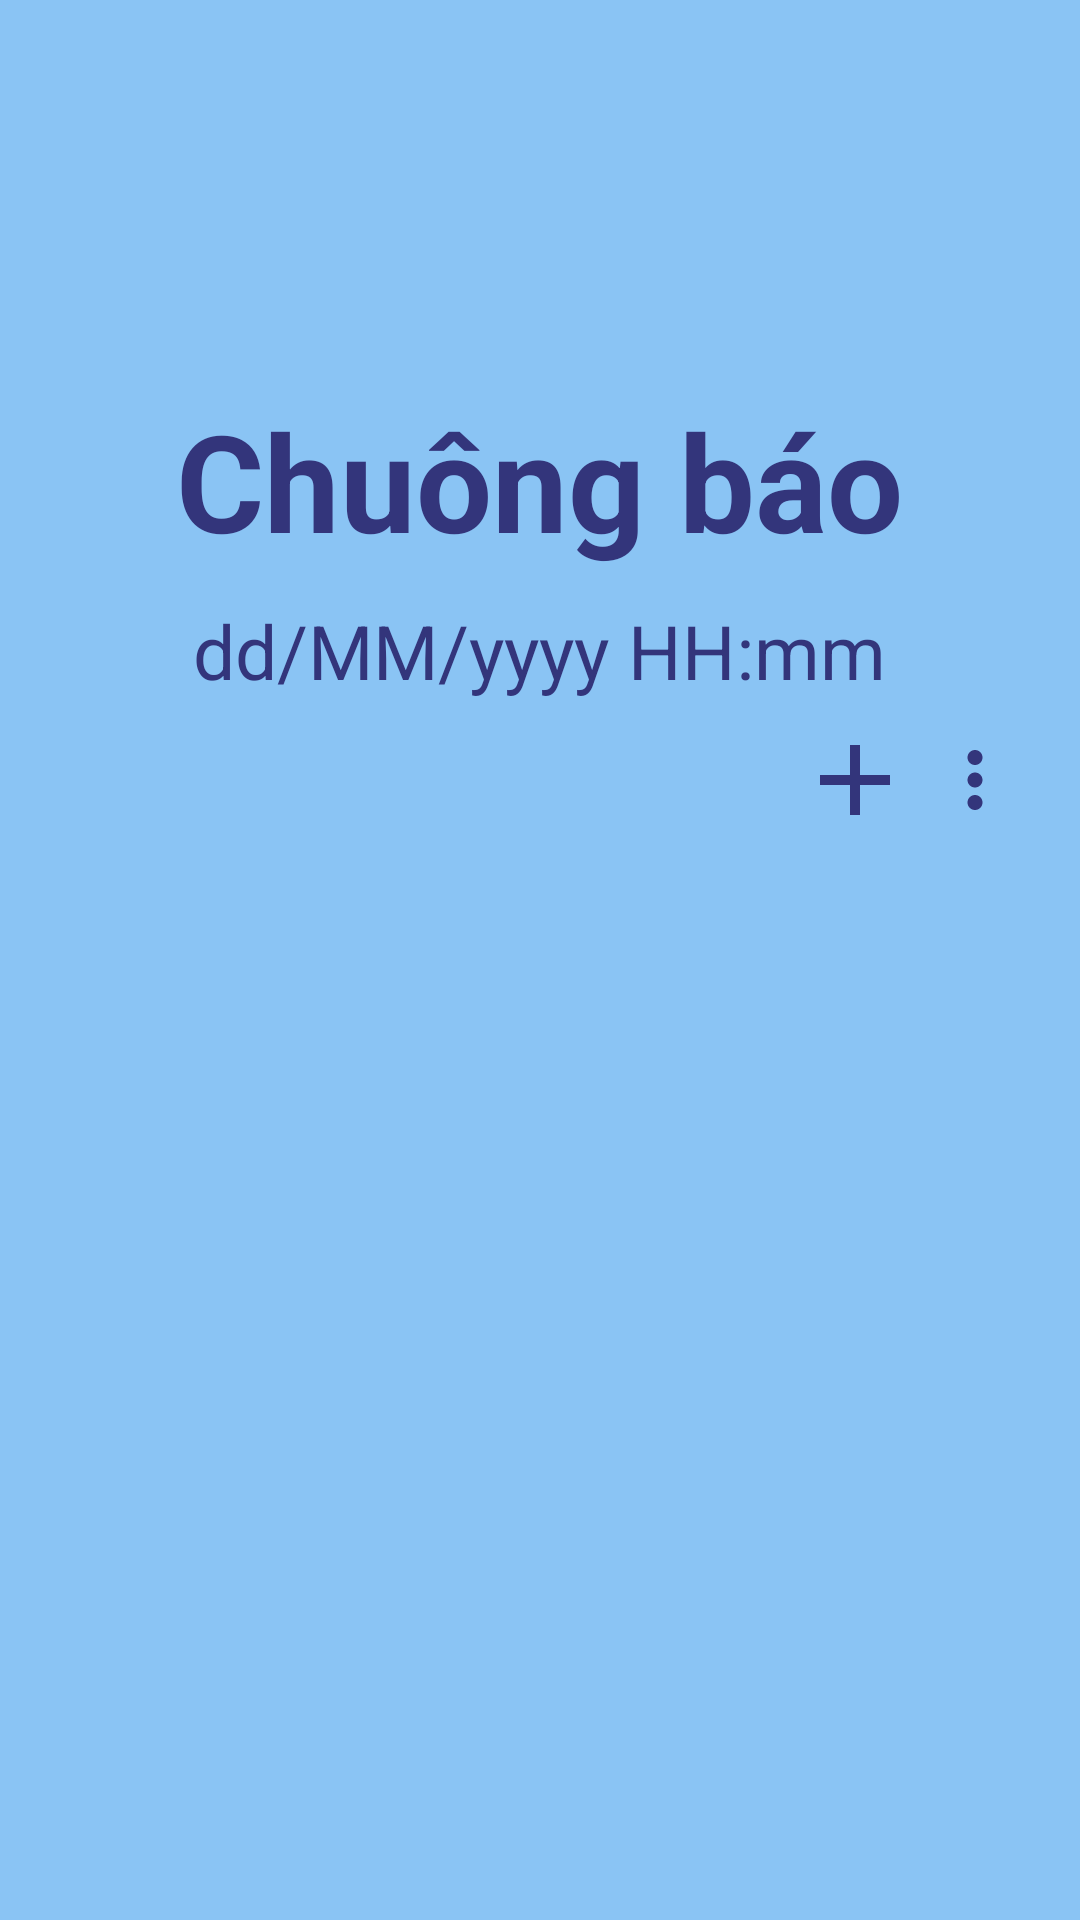

Named icons in this screenshot (1080px×1920px) and their bounding boxes, [x1, y1, x2, y2]:
add: [820, 745, 890, 815]
more: [967, 750, 983, 810]
